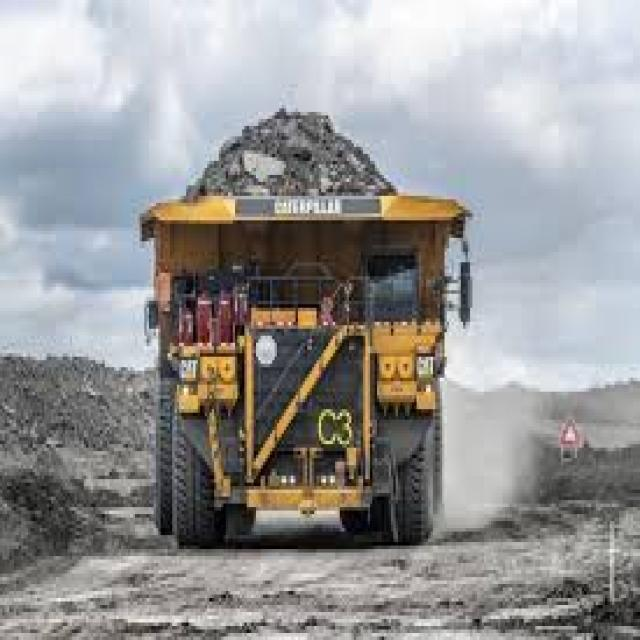dump_truck: (139, 105, 474, 554)
